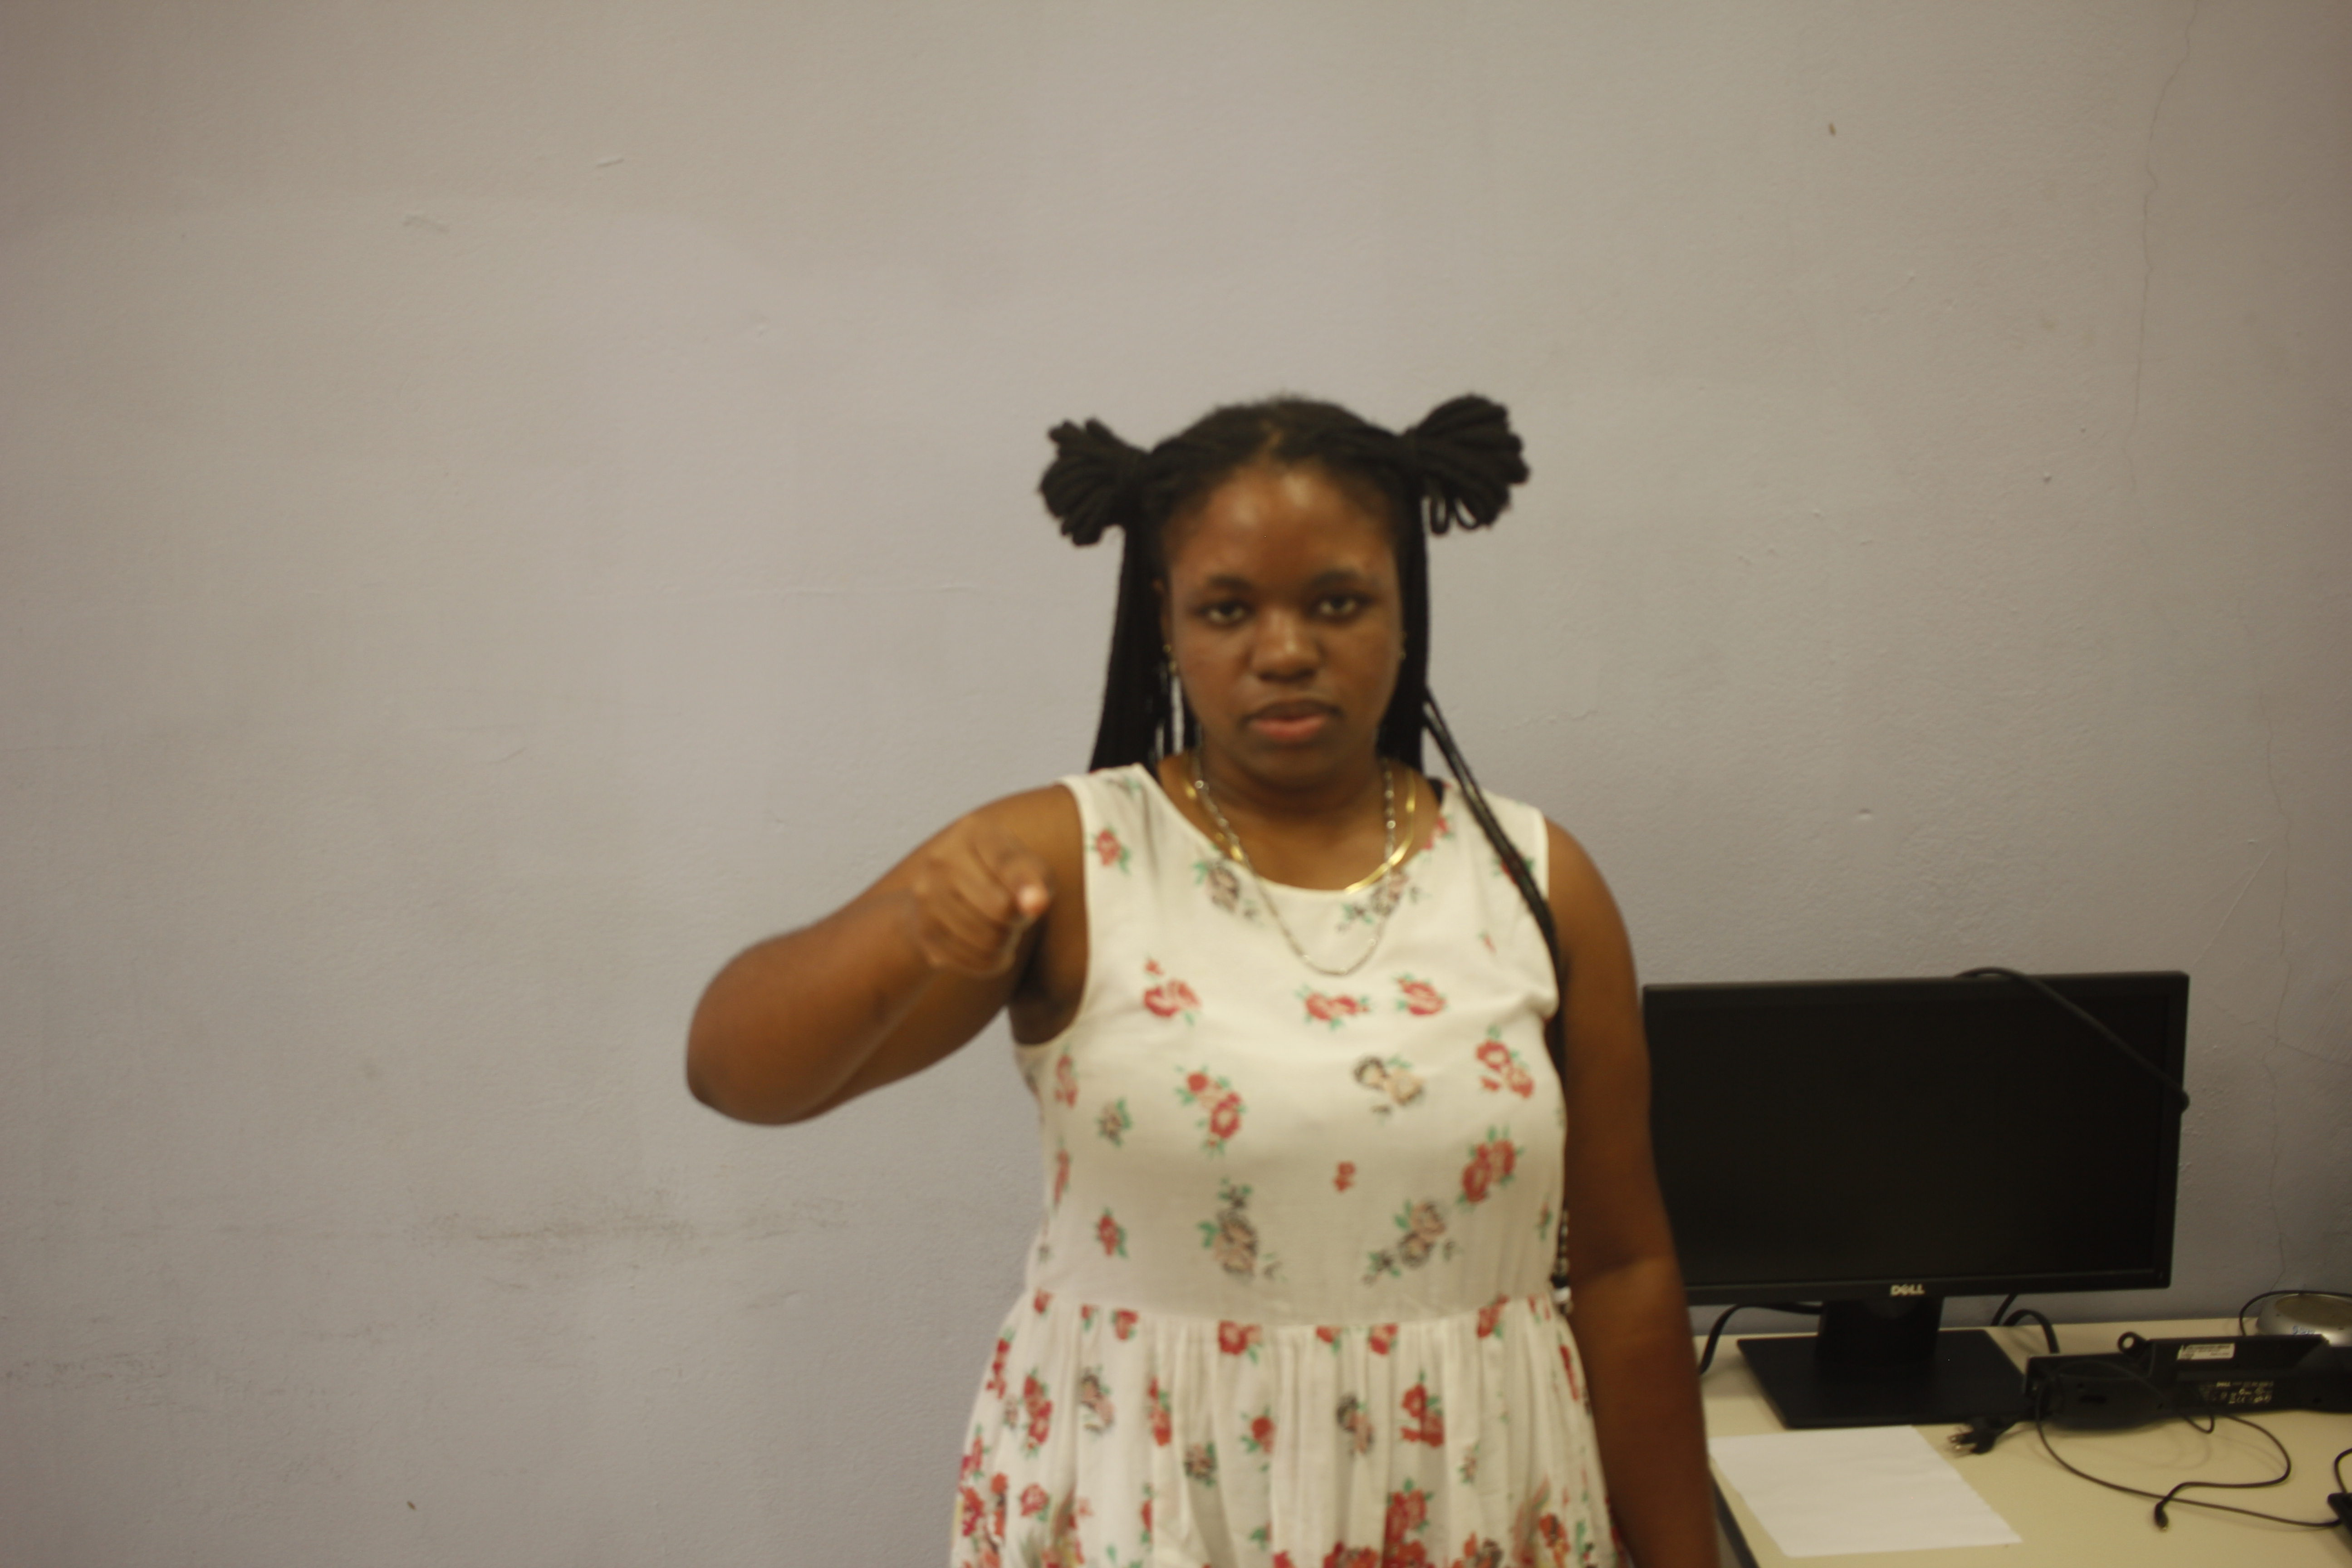point: (891, 796, 1059, 985)
